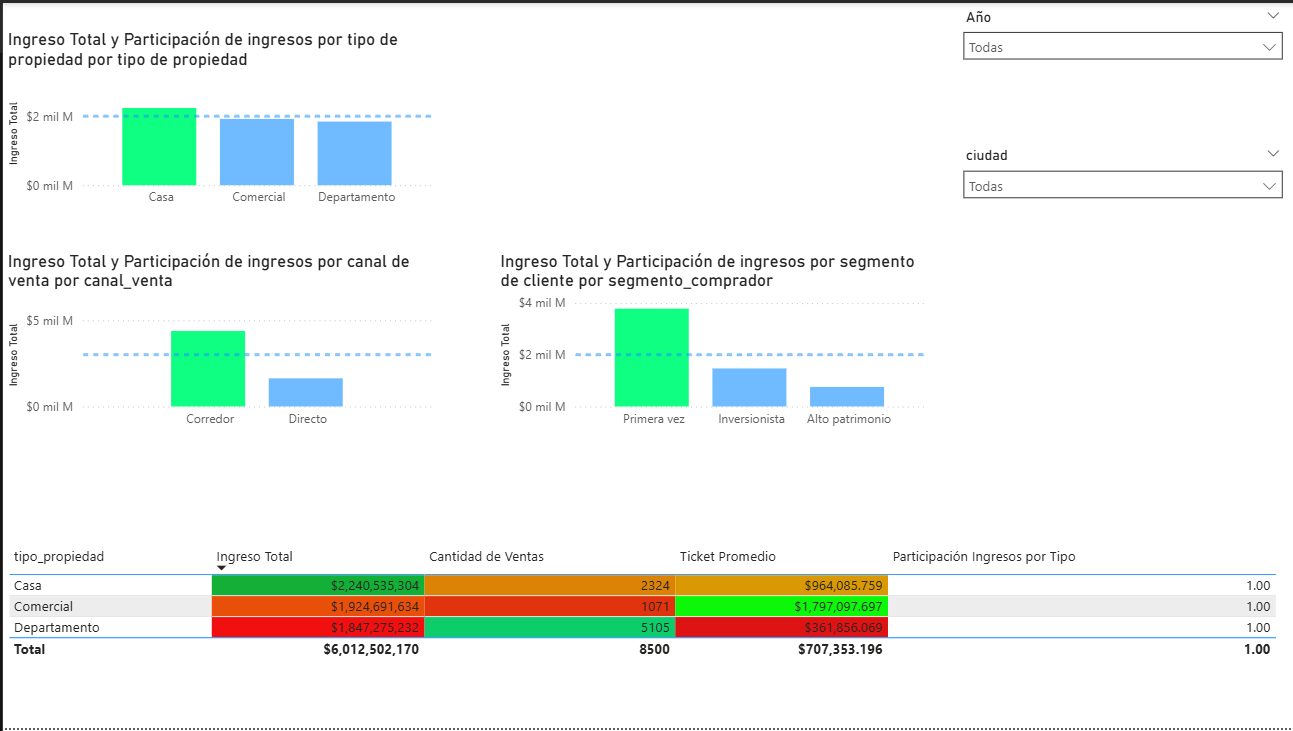

The page's visual inventory and layout, read from the dashboard file:
{"tool":"powerbi","page":{"name":"Analisis Comercial","canvas":[1280,720],"ordinal":1},"visuals":[{"type":"clusteredColumnChart","title":"“Ingresos y Participación por Tipo de Propiedad”","fields":{"Category":["dim_propiedades.tipo_propiedad"],"Y":["hecho_ventas_propiedades.Ingreso Total"]},"box":[0,25.7,433.7,185],"z":0},{"type":"slicer","fields":{"Values":["dim_clientes.segmento_comprador"]},"box":[943.3,0,336.9,95.6],"z":1000},{"type":"slicer","fields":{"Values":["hecho_ventas_propiedades.ciudad"]},"box":[943.3,137.2,336.9,107.8],"z":2000},{"type":"tableEx","title":"“Desempeño por Tipo de Propiedad”","fields":{"Values":["dim_propiedades.tipo_propiedad","hecho_ventas_propiedades.Ingreso Total","hecho_ventas_propiedades.Participación Ingresos por Tipo","hecho_ventas_propiedades.Cantidad de Ventas","hecho_ventas_propiedades.Ticket Promedio"]},"box":[0,532.9,1280.2,187.4],"z":3000},{"type":"clusteredColumnChart","title":" “Ingresos y Participación por Canal de Venta”","fields":{"Category":["hecho_ventas_propiedades.canal_venta"],"Y":["hecho_ventas_propiedades.Ingreso Total"]},"box":[0,245,433.7,185],"z":4000},{"type":"clusteredColumnChart","title":"“Ingresos y Participación por Segmento de Cliente”","fields":{"Y":["hecho_ventas_propiedades.Ingreso Total"],"Category":["dim_clientes.segmento_comprador"]},"box":[488.8,245,433.7,185],"z":5000}]}

Visuals, with their boxes in screenshot pixels (x1, y1, x2, y2), scaled from the page's 1280x720 canvas onto the 1293x731 screenshot:
"“Ingresos y Participación por Tipo de Propiedad”" clusteredColumnChart: <region>0, 26, 438, 214</region>
slicer - dim_clientes.segmento_comprador: <region>953, 0, 1292, 97</region>
slicer - hecho_ventas_propiedades.ciudad: <region>953, 139, 1292, 249</region>
"“Desempeño por Tipo de Propiedad”" tableEx: <region>0, 541, 1292, 730</region>
" “Ingresos y Participación por Canal de Venta”" clusteredColumnChart: <region>0, 249, 438, 437</region>
"“Ingresos y Participación por Segmento de Cliente”" clusteredColumnChart: <region>494, 249, 932, 437</region>
